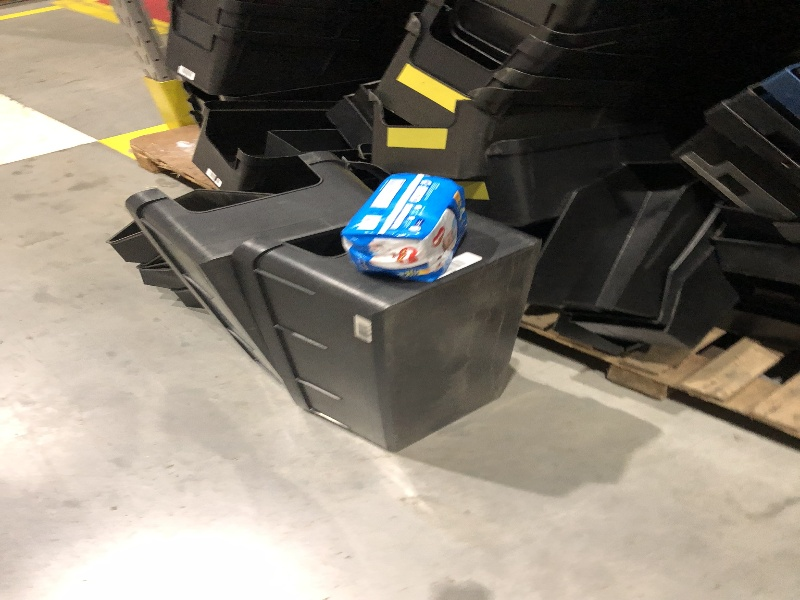fralda: (355, 175, 471, 279)
